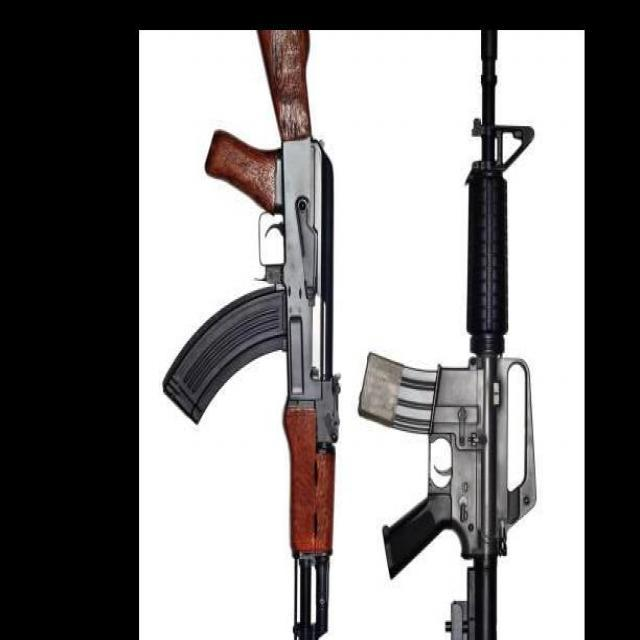weapon: (160, 29, 344, 640), (356, 30, 539, 640)
